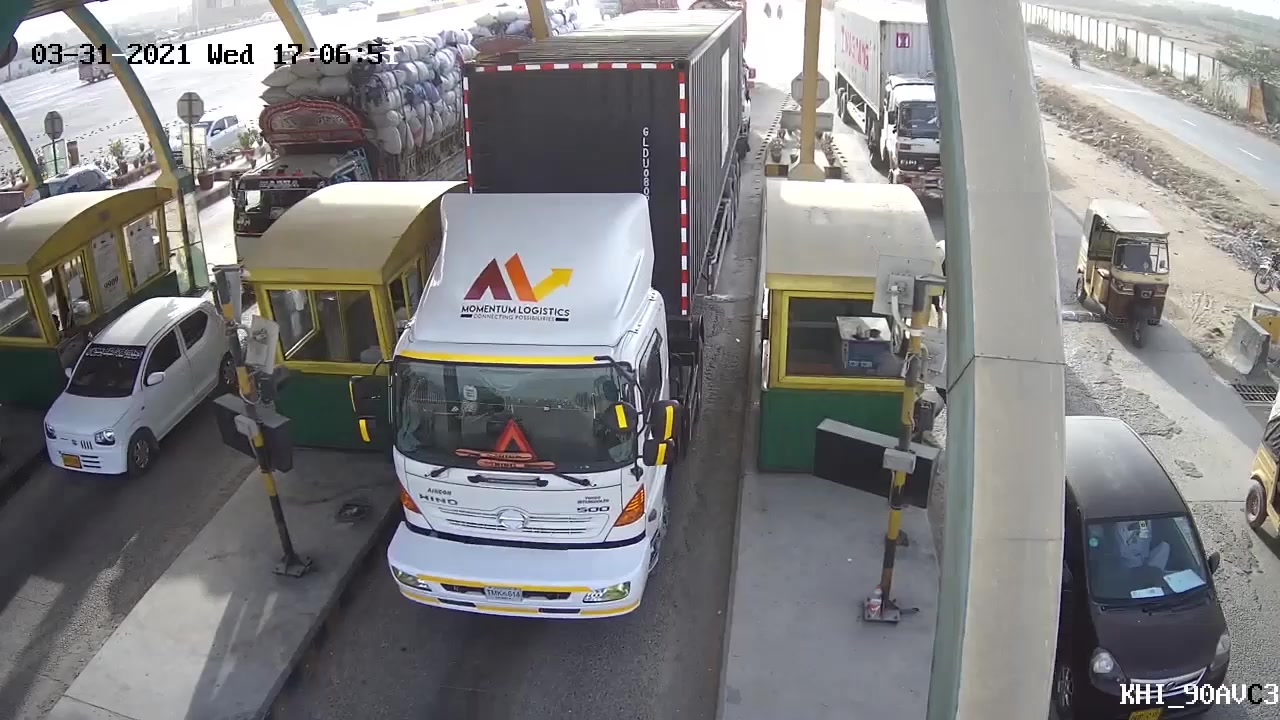F6: (350, 13, 750, 636)
